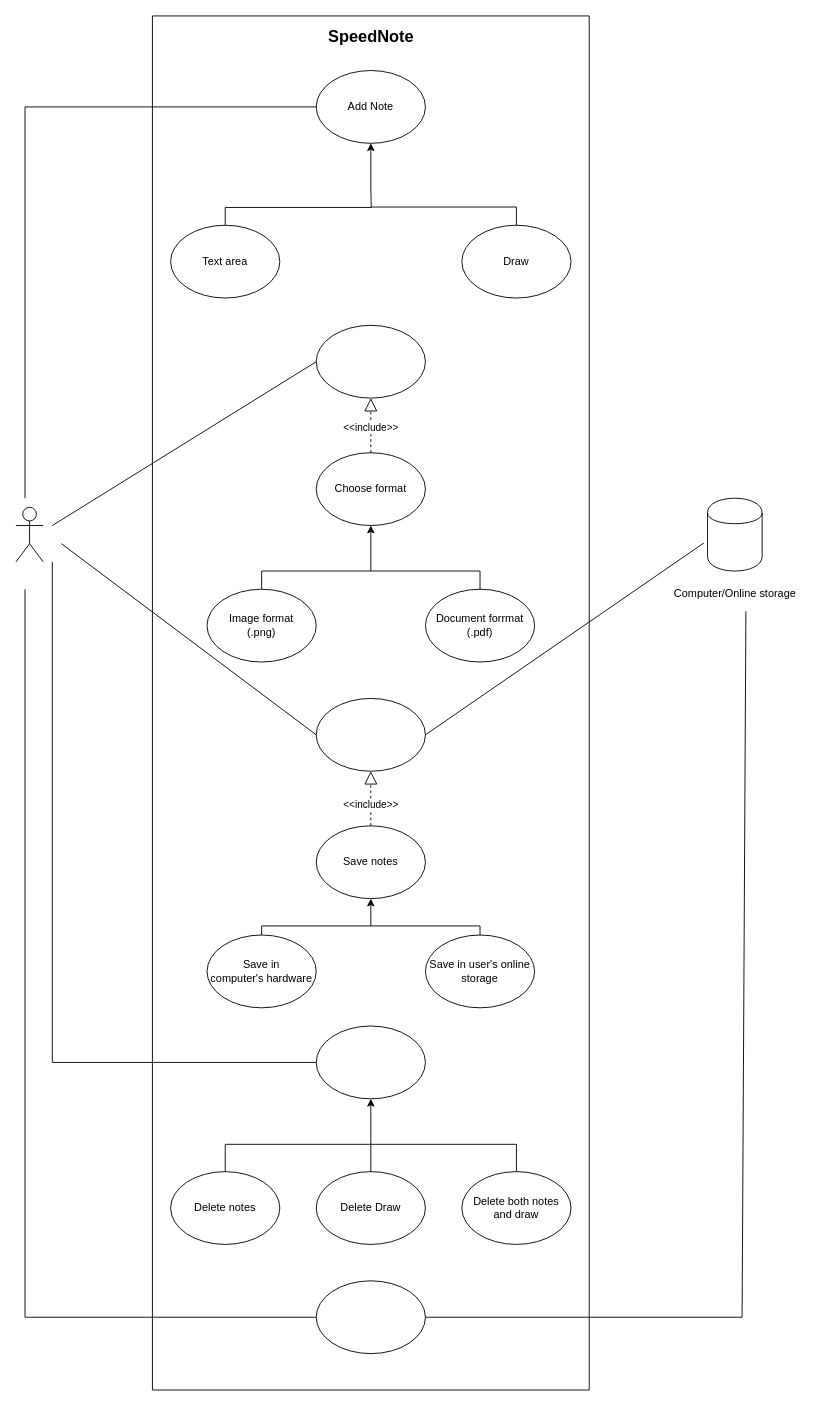
This 824x1406 diagram has some shape labels left out. The shapes that lost their labels are listed below. From the top down, each one's centre as x and y in pixels, then its label:
point 370,361: Convert output format
point 29,534: Users
point 370,734: Store Notes
point 370,1062: Delete Elements
point 370,1317: Queue notes
